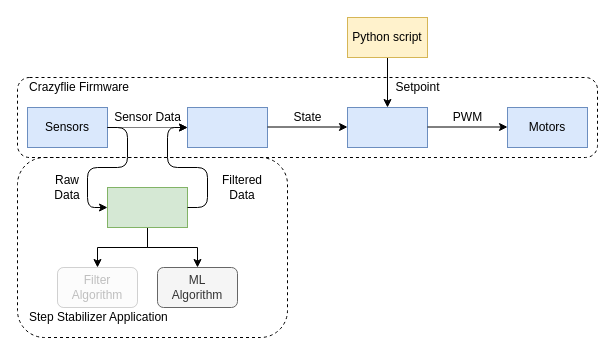
Image size: 615x355. Some labels were removed from this diagram. Here are the shapes that lost their labels. From the top down, the centre of each, then its label:
point 227,127: State Estimator
point 387,127: Controller
point 147,207: Step stabilizer
